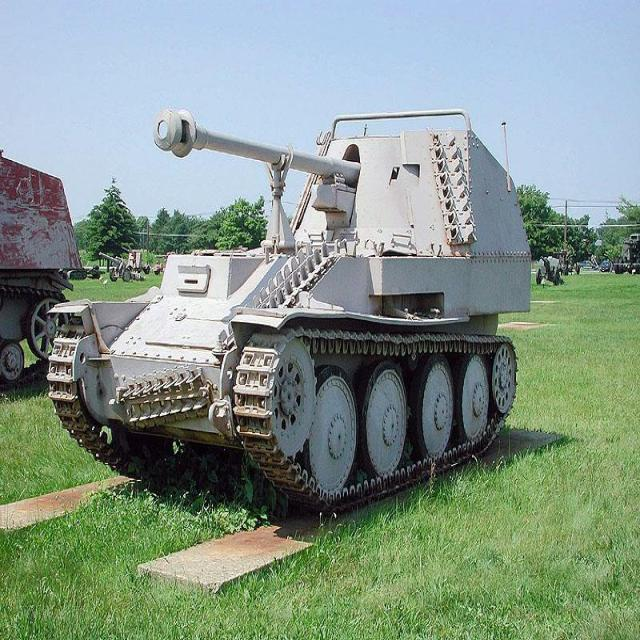Tanks: (52, 90, 543, 520)
